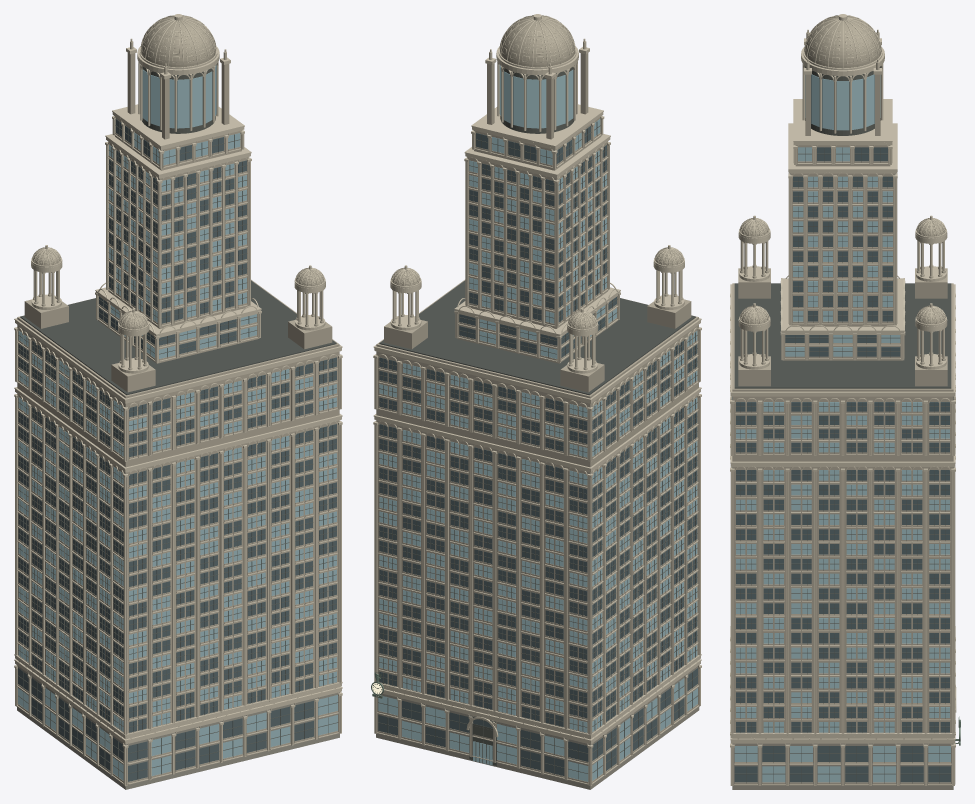
File: jewelers_building.glb
The picture shows the model from 3 angles, left to right: view 1: azimuth 30°, elevation 25°; view 2: azimuth 150°, elevation 25°; view 3: azimuth 270°, elevation 25°; orthographic projection.
Parts seen in each view (by area): view 1: Cream terra cotta, Raised classical ornament, Unoccupied recessed office glazing, Night recessed office glazing, Bronze window sash, Terrace roofing, Carved terra cotta dome, Street limestone; view 2: Cream terra cotta, Raised classical ornament, Unoccupied recessed office glazing, Night recessed office glazing, Bronze window sash, Terrace roofing, Carved terra cotta dome, Street limestone; view 3: Cream terra cotta, Raised classical ornament, Unoccupied recessed office glazing, Night recessed office glazing, Bronze window sash, Terrace roofing, Carved terra cotta dome, Street limestone.
Part boxes in pixels (<box>): Cream terra cotta: <box>15,53,340,785</box>; Raised classical ornament: <box>14,14,342,786</box>; Unoccupied recessed office glazing: <box>18,119,336,781</box>; Night recessed office glazing: <box>18,65,337,780</box>; Bronze window sash: <box>17,67,338,780</box>; Terrace roofing: <box>20,280,336,395</box>; Carved terra cotta dome: <box>33,15,323,329</box>; Street limestone: <box>17,666,339,789</box>; Cream terra cotta: <box>375,53,700,784</box>; Raised classical ornament: <box>373,14,701,786</box>; Unoccupied recessed office glazing: <box>378,126,697,775</box>; Night recessed office glazing: <box>378,65,697,781</box>; Bronze window sash: <box>372,65,698,780</box>; Terrace roofing: <box>379,280,695,395</box>; Carved terra cotta dome: <box>392,15,682,329</box>; Street limestone: <box>376,666,699,789</box>; Cream terra cotta: <box>732,74,955,785</box>; Raised classical ornament: <box>730,14,956,785</box>; Unoccupied recessed office glazing: <box>732,147,950,782</box>; Night recessed office glazing: <box>734,74,950,782</box>; Bronze window sash: <box>731,66,954,783</box>; Terrace roofing: <box>734,283,951,388</box>; Carved terra cotta dome: <box>740,16,945,324</box>; Street limestone: <box>732,743,953,789</box>.
Bounding box in the file's own units: 51.34 × 159 × 46.25.
